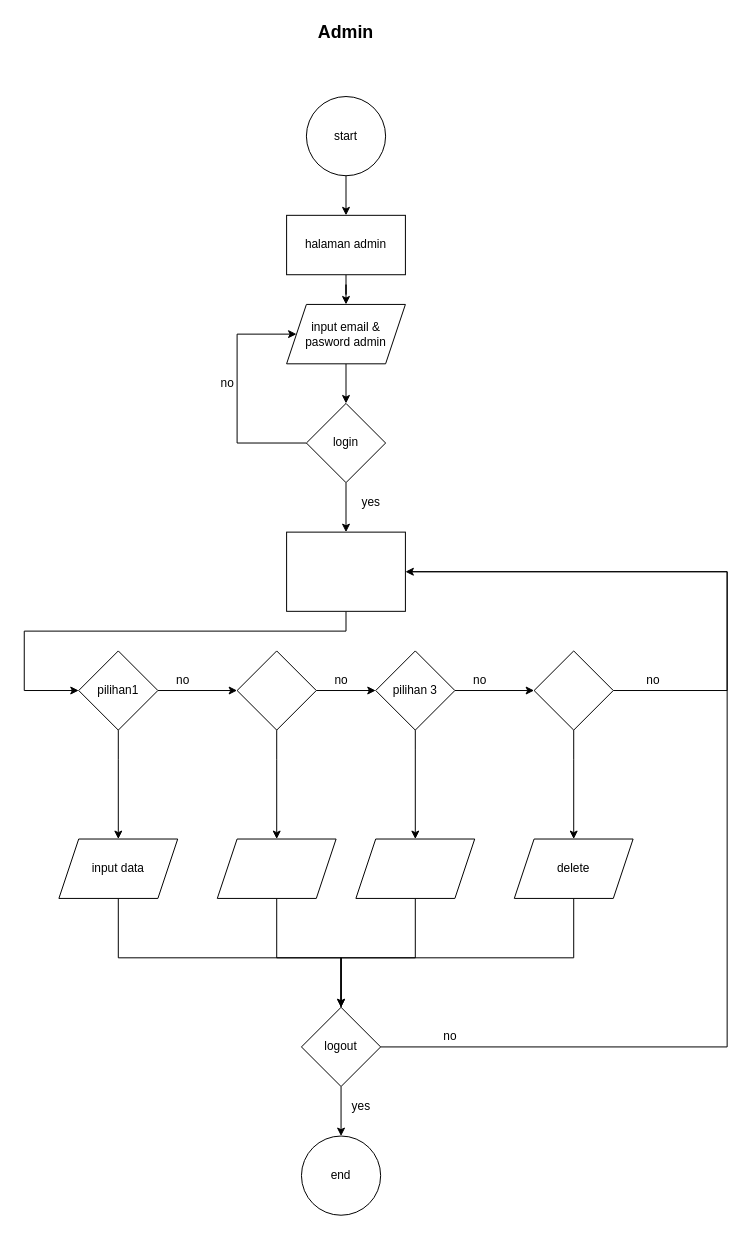
Some shapes in this 752 by 1233 pixel diagram are drawn without their labels. The centre of each missing label's shape, as x and y in pixels:
"menu: 1. input 2. read 3. update 4.delete" goes at [345,571].
"pilihan 2" goes at [276,690].
"pilihan 4" goes at [573,690].
"read" goes at [276,868].
"update" goes at [415,868].
